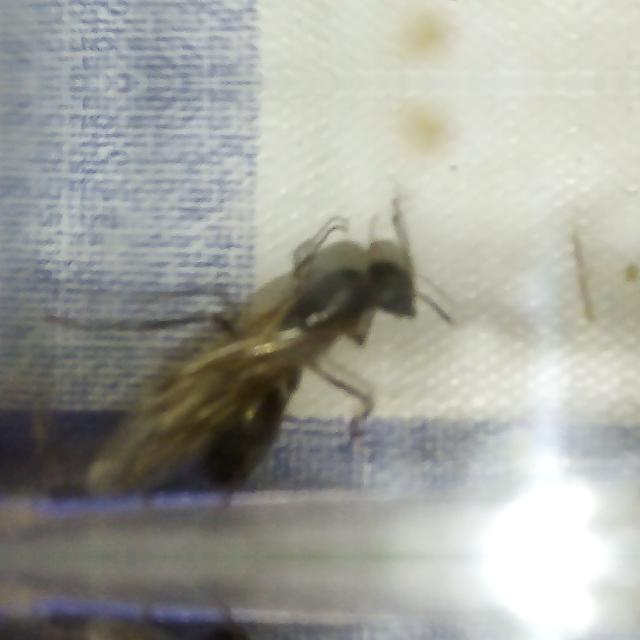Camponotus: (79, 192, 493, 492)
